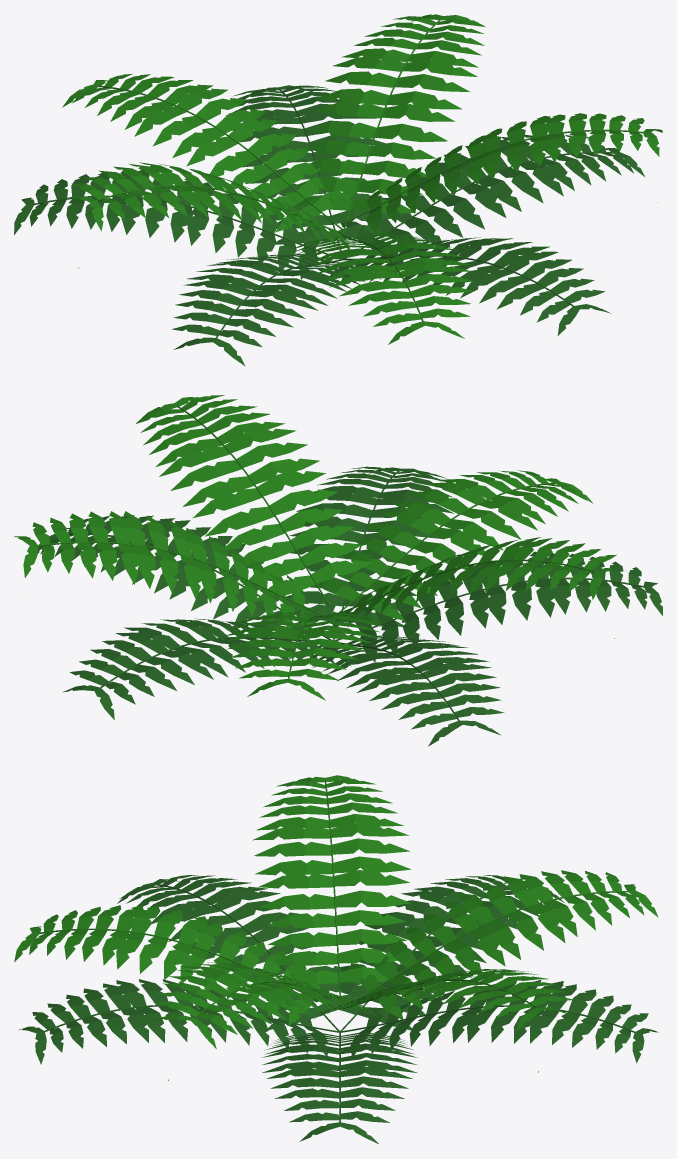
The model's file is fern.fbx.
3 views of the same model, one above another, from view 1: azimuth 30°, elevation 25°; view 2: azimuth 150°, elevation 25°; view 3: azimuth 270°, elevation 25° (orthographic).
Parts seen in each view (by area): view 1: NurbsPath.001, NurbsPath; view 2: NurbsPath.001, NurbsPath; view 3: NurbsPath.001, NurbsPath.
Part boxes in pixels (<box>): NurbsPath.001: <box>61,14,662,344</box>; NurbsPath: <box>14,85,644,366</box>; NurbsPath.001: <box>14,395,622,700</box>; NurbsPath: <box>37,466,662,746</box>; NurbsPath.001: <box>14,775,658,1080</box>; NurbsPath: <box>18,875,658,1143</box>.
Bounding box in the file's own units: 5716 × 1302 × 5772.
